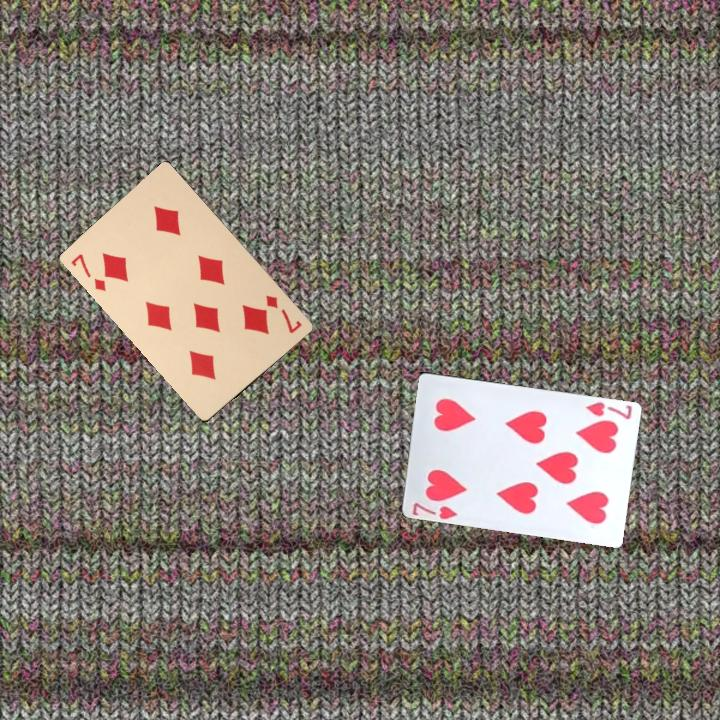7d: (261, 291, 305, 336), (67, 249, 109, 294)
7h: (581, 398, 635, 422), (409, 499, 460, 521)
